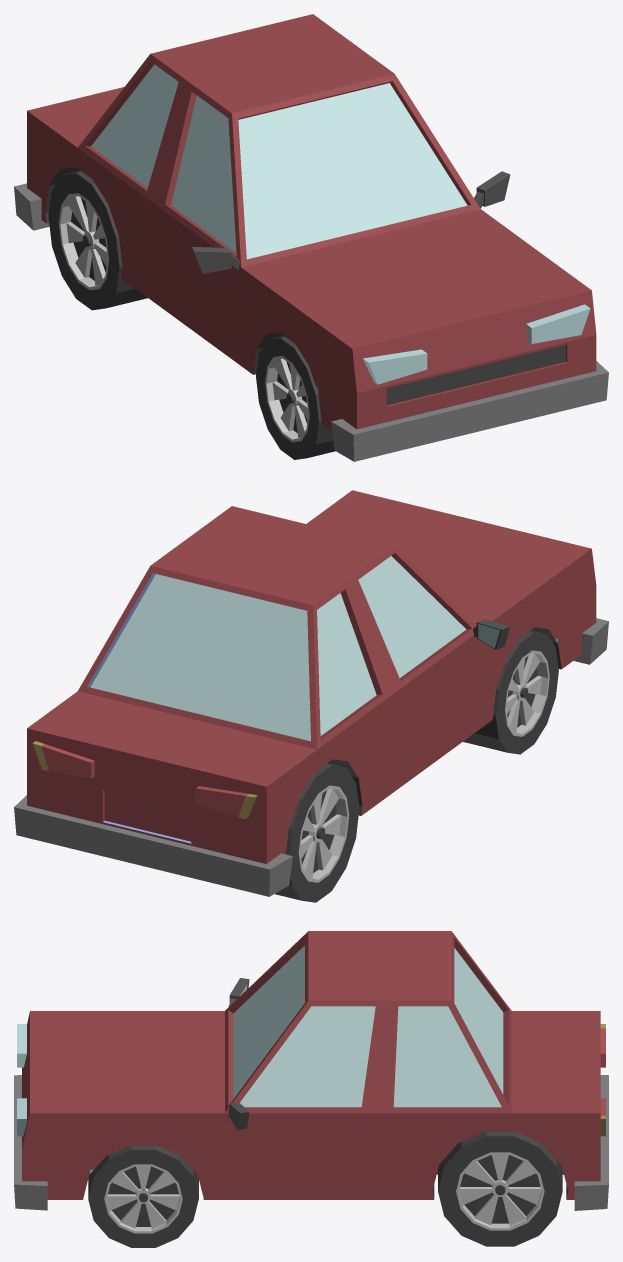
File: car3.fbx
3 renders of one model, top to bottom at view 1: azimuth 30°, elevation 25°; view 2: azimuth 150°, elevation 25°; view 3: azimuth 270°, elevation 25°, orthographic. The views are drawn at different scales.
Visible parts, largest first — view 1: Cube.003, Cube.008, Cube.004, Cube.005, Cube.001, Cube.011, Cube.002; view 2: Cube.003, Cube.008, Cube.004, Cube.009, Cube.010, Cube.011; view 3: Cube.003, Cube.007, Cube.006, Cube.002.
Part boxes in pixels (bbox=[...]): Cube.003: bbox=[14, 14, 608, 461]; Cube.008: bbox=[48, 170, 147, 310]; Cube.004: bbox=[256, 336, 335, 459]; Cube.005: bbox=[526, 304, 590, 343]; Cube.001: bbox=[363, 349, 427, 384]; Cube.011: bbox=[192, 247, 240, 273]; Cube.002: bbox=[474, 171, 510, 208]; Cube.003: bbox=[14, 490, 608, 896]; Cube.008: bbox=[275, 763, 359, 902]; Cube.004: bbox=[463, 630, 558, 754]; Cube.009: bbox=[32, 741, 94, 778]; Cube.010: bbox=[195, 786, 257, 819]; Cube.011: bbox=[473, 619, 510, 649]; Cube.003: bbox=[14, 931, 608, 1210]; Cube.007: bbox=[438, 1131, 562, 1246]; Cube.006: bbox=[88, 1145, 198, 1247]; Cube.002: bbox=[228, 1102, 249, 1129].
Bounding box in the file's own units: 1008 × 802 × 1873.
